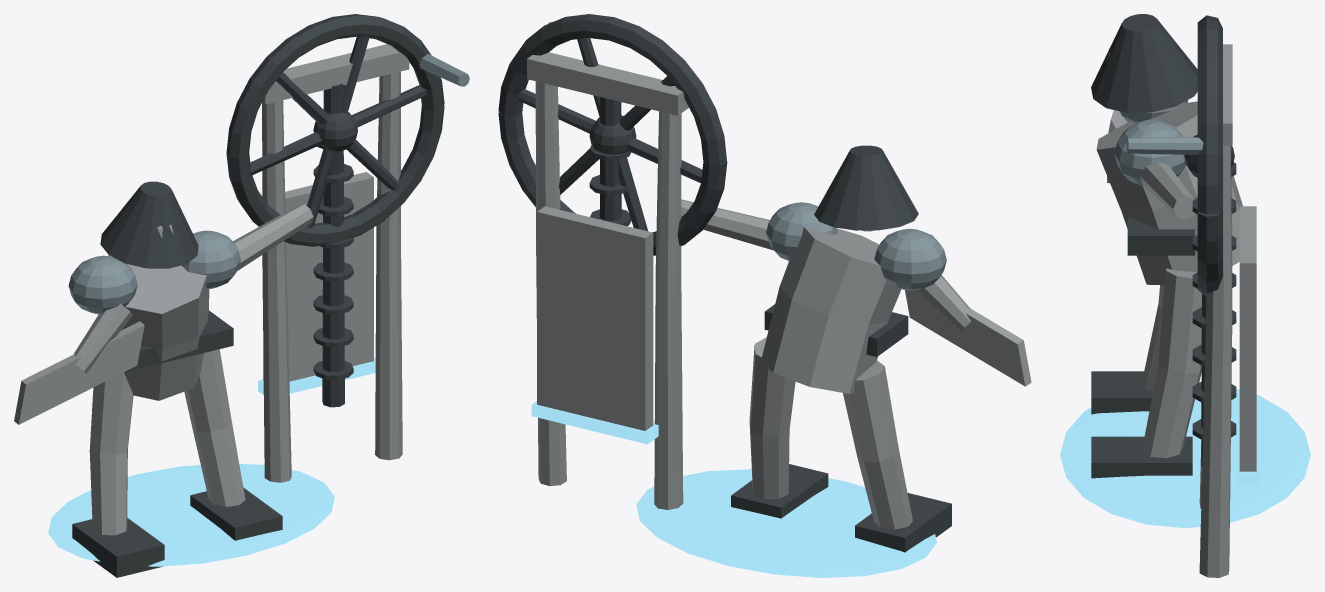
Rendered from sluicekeeper.glb.
3 views of the same model, side by side, from view 1: azimuth 30°, elevation 25°; view 2: azimuth 150°, elevation 25°; view 3: azimuth 270°, elevation 25° (orthographic). The views are drawn at different scales.
Parts seen in each view (by area): view 1: sluicekeeper_bone, sluicekeeper_dark, sluicekeeper_glow, sluicekeeper_body; view 2: sluicekeeper_bone, sluicekeeper_dark, sluicekeeper_glow, sluicekeeper_body; view 3: sluicekeeper_bone, sluicekeeper_dark, sluicekeeper_glow, sluicekeeper_body.
Part boxes in pixels (x1,y1,x2,y2): sluicekeeper_bone: [14, 44, 409, 535]; sluicekeeper_dark: [72, 14, 444, 577]; sluicekeeper_glow: [48, 358, 375, 566]; sluicekeeper_body: [68, 54, 469, 314]; sluicekeeper_bone: [527, 52, 1031, 529]; sluicekeeper_dark: [498, 14, 951, 552]; sluicekeeper_glow: [531, 401, 936, 577]; sluicekeeper_body: [548, 21, 946, 290]; sluicekeeper_bone: [1096, 44, 1256, 577]; sluicekeeper_dark: [1091, 14, 1236, 478]; sluicekeeper_glow: [1060, 388, 1310, 528]; sluicekeeper_body: [1114, 100, 1203, 185].
Size of the model in its own units: 2.66 by 2.5 by 1.09.
